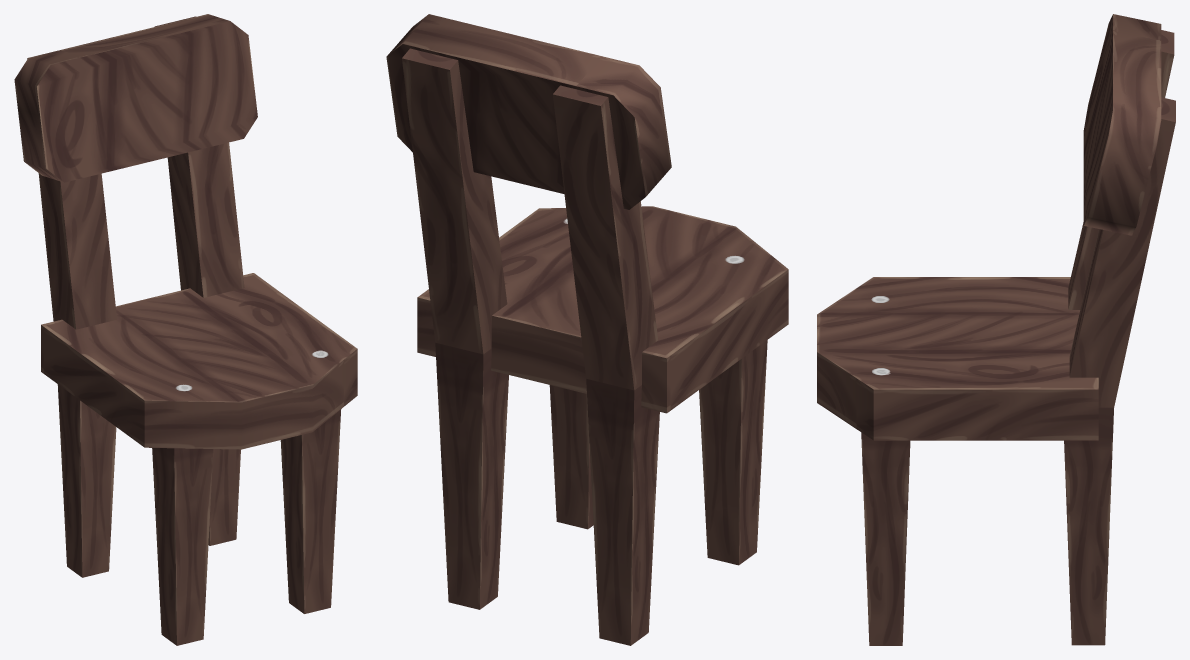
The model's file is chair.glb.
3 renders of one model, left to right at view 1: azimuth 30°, elevation 25°; view 2: azimuth 150°, elevation 25°; view 3: azimuth 270°, elevation 25°, orthographic. The views are drawn at different scales.
Visible parts, largest first — view 1: chair; view 2: chair; view 3: chair.
Part boxes in pixels (left/top/right/bottom): chair: left=14, top=14, right=357, bottom=645; chair: left=386, top=14, right=788, bottom=645; chair: left=817, top=14, right=1175, bottom=645.
Size of the model in its own units: 0.4 by 0.9004 by 0.539.
1 material, 1 textured.
